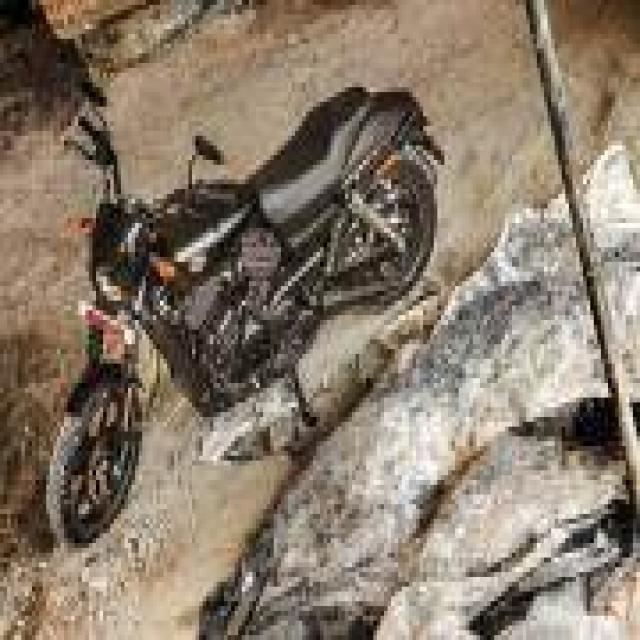Bike: (37, 79, 456, 531)
